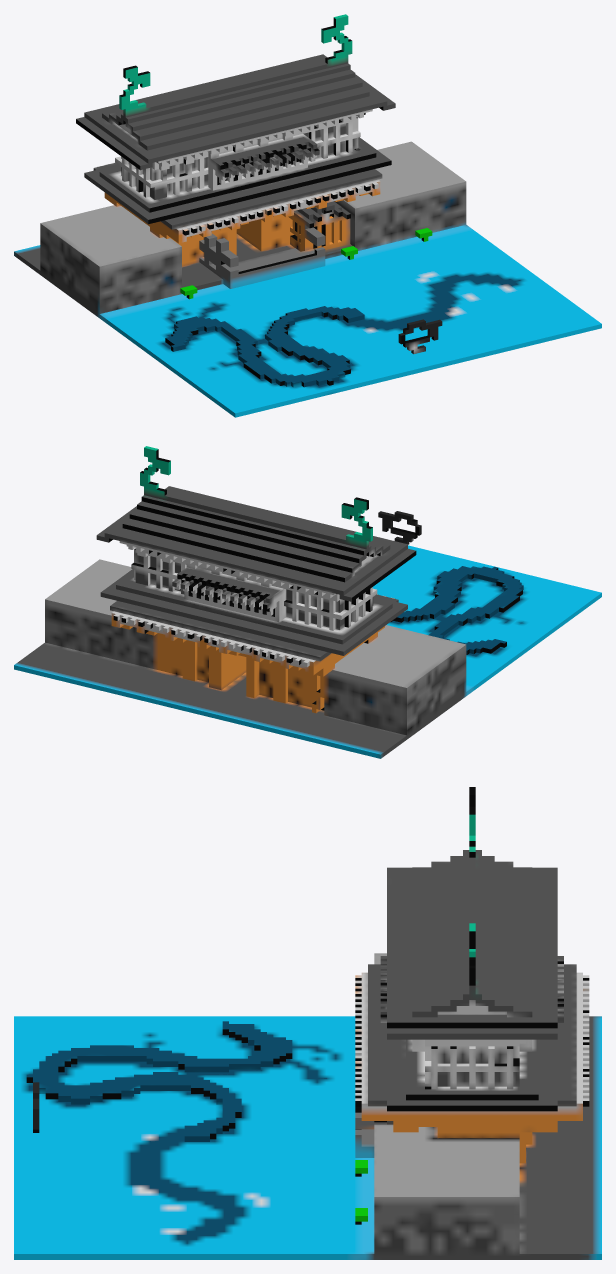
The model's file is goromon_.glb.
3 renders of one model, top to bottom at view 1: azimuth 30°, elevation 25°; view 2: azimuth 150°, elevation 25°; view 3: azimuth 270°, elevation 25°, orthographic. The views are drawn at different scales.
Visible parts, largest first — view 1: goromon_; view 2: goromon_; view 3: goromon_.
Part boxes in pixels (x1,y1,x2,y2): goromon_: (14,14,601,417); goromon_: (14,446,601,758); goromon_: (14,787,601,1259).
Bounding box in the file's own units: 1.78 × 0.96 × 1.86.
1 material, 1 textured.
